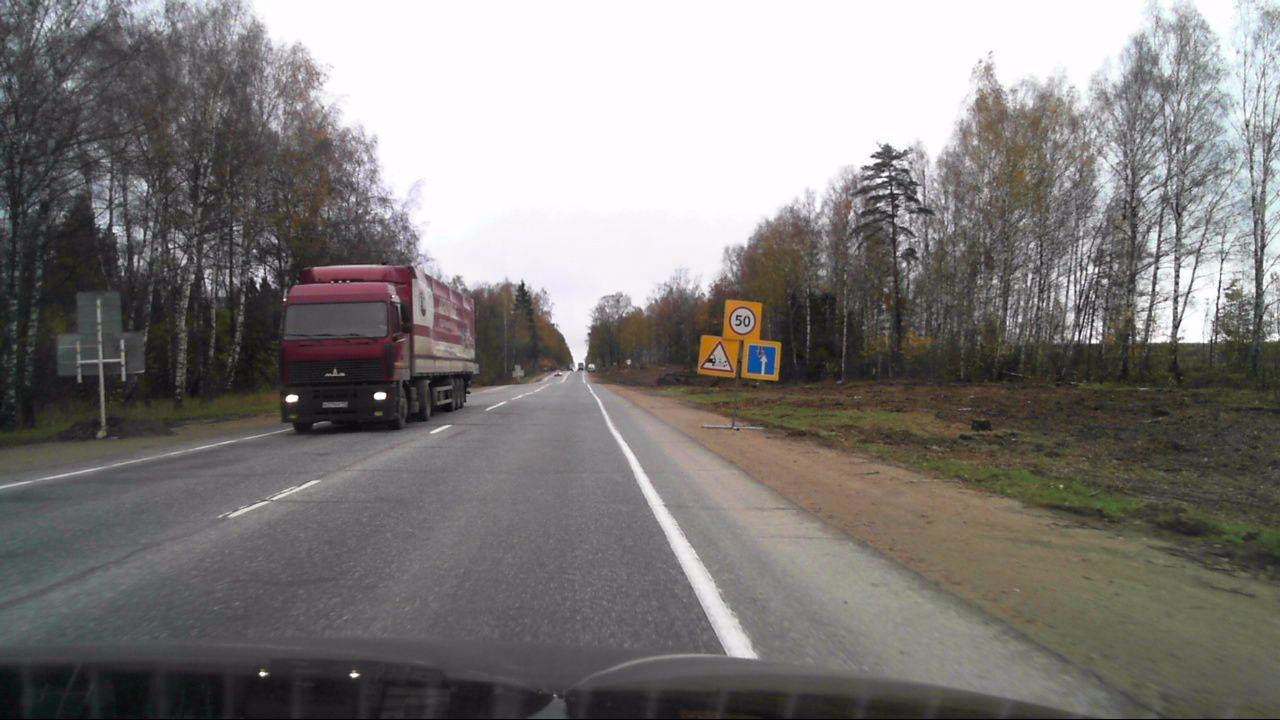1_18: (700, 338, 734, 375)
2_7: (745, 343, 778, 377)
3_24: (728, 307, 758, 336)
